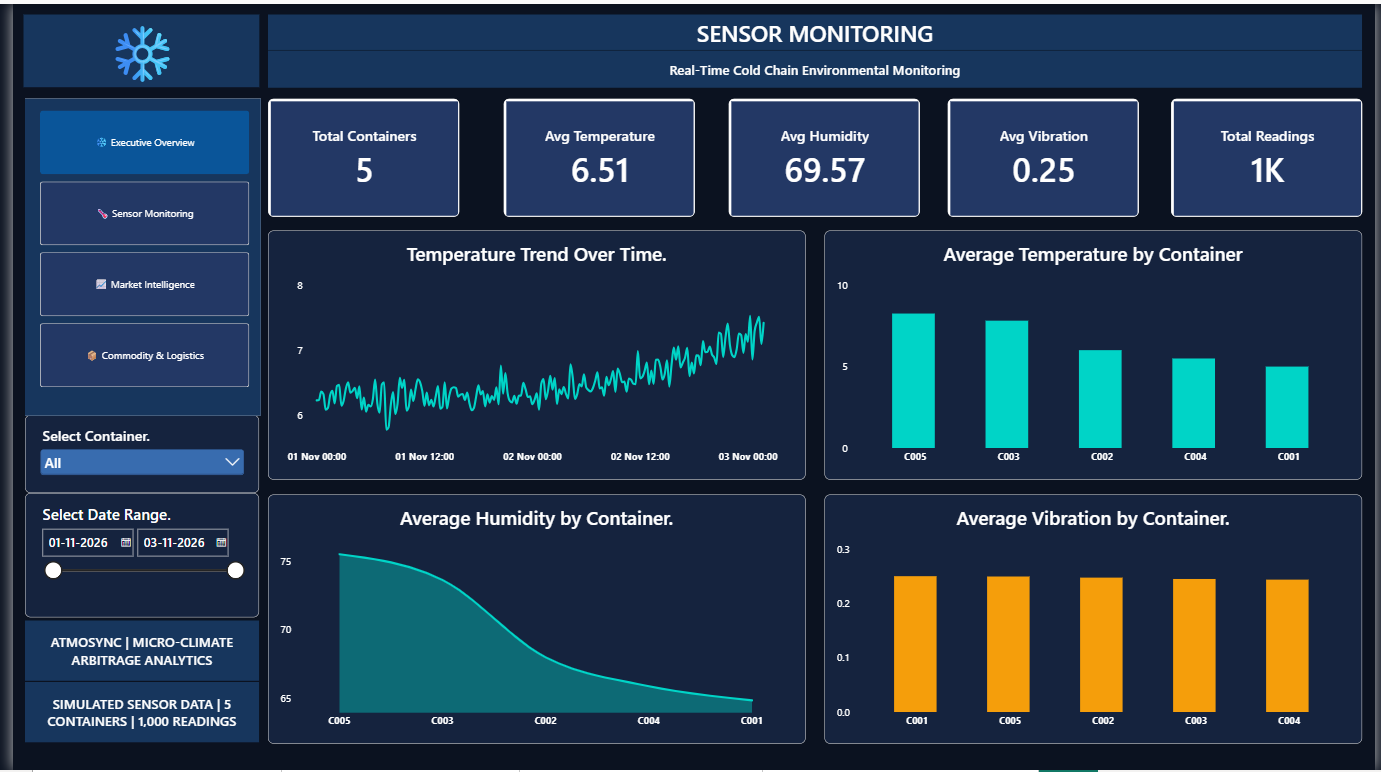

The dashboard page shown, as its layout file describes it:
{"tool":"powerbi","page":{"name":"❄️ Executive Overview","canvas":[1920,1080],"ordinal":0},"visuals":[{"type":"shape","box":[360,15,1542.5,50],"z":0},{"type":"shape","box":[360,65,1542.5,52.5],"z":1000},{"type":"cardVisual","fields":{"Data":["Sensor_Data.Total Containers"]},"box":[360.5,132.6,270,167.4],"z":2000},{"type":"cardVisual","fields":{"Data":["Sensor_Data.Avg Temperature"]},"box":[690.7,132.6,270,167],"z":3000},{"type":"cardVisual","fields":{"Data":["Sensor_Data.Avg Humidity"]},"box":[1009.3,132.6,270,167],"z":4000},{"type":"cardVisual","fields":{"Data":["Sensor_Data.Avg Vibration"]},"box":[1318.6,132.6,270,167],"z":5000},{"type":"cardVisual","fields":{"Data":["Sensor_Data.Total Readings"]},"box":[1632.6,132.6,270,167],"z":6000},{"type":"lineChart","title":"Temperature Trend Over Time.","fields":{"Category":["Sensor_Data.timestamp_local"],"Y":["Avg(Sensor_Data.temperature_c)"]},"box":[360.5,318.6,758.1,351.2],"z":7000},{"type":"clusteredColumnChart","title":"Average Temperature by Container","fields":{"Category":["Sensor_Data.container_id"],"Y":["Avg(Sensor_Data.temperature_c)"]},"box":[1144.2,318.6,758,351],"z":8000},{"type":"areaChart","title":"Average Humidity by Container.","fields":{"Category":["Sensor_Data.container_id"],"Y":["Avg(Sensor_Data.relative_humidity_pct)"]},"box":[360.5,690.7,758,351],"z":9000},{"type":"clusteredColumnChart","title":"Average Vibration by Container.","fields":{"Category":["Sensor_Data.container_id"],"Y":["Avg(Sensor_Data.vibration_g)"]},"box":[1144.2,690.7,758,351],"z":10000},{"type":"slicer","fields":{"Values":["Sensor_Data.container_id"]},"box":[17.5,580,330,110],"z":11000},{"type":"slicer","fields":{"Values":["Sensor_Data.timestamp_local"]},"box":[17.5,690,330,175],"z":12000},{"type":"shape","box":[15,15,332.5,102.5],"z":13000},{"type":"shape","box":[17.5,870,330,85],"z":14000},{"type":"shape","box":[17.5,955,330,85],"z":15000},{"type":"shape","box":[17.5,132.5,332.5,447.5],"z":16000},{"type":"pageNavigator","box":[37.5,150,295,390],"z":17000}]}

Visuals, with their boxes in screenshot pixels (x1, y1, x2, y2), scaled from the page's 1920x1080 canvas onto the 1381x772 screenshot:
shape: (259, 11, 1368, 46)
shape: (259, 46, 1368, 84)
cardVisual - Sensor_Data.Total Containers: (259, 95, 454, 214)
cardVisual - Sensor_Data.Avg Temperature: (497, 95, 691, 214)
cardVisual - Sensor_Data.Avg Humidity: (726, 95, 920, 214)
cardVisual - Sensor_Data.Avg Vibration: (948, 95, 1143, 214)
cardVisual - Sensor_Data.Total Readings: (1174, 95, 1368, 214)
"Temperature Trend Over Time." lineChart: (259, 228, 805, 479)
"Average Temperature by Container" clusteredColumnChart: (823, 228, 1368, 479)
"Average Humidity by Container." areaChart: (259, 494, 805, 745)
"Average Vibration by Container." clusteredColumnChart: (823, 494, 1368, 745)
slicer - Sensor_Data.container_id: (13, 415, 250, 493)
slicer - Sensor_Data.timestamp_local: (13, 493, 250, 618)
shape: (11, 11, 250, 84)
shape: (13, 622, 250, 683)
shape: (13, 683, 250, 743)
shape: (13, 95, 252, 415)
pageNavigator: (27, 107, 239, 386)
